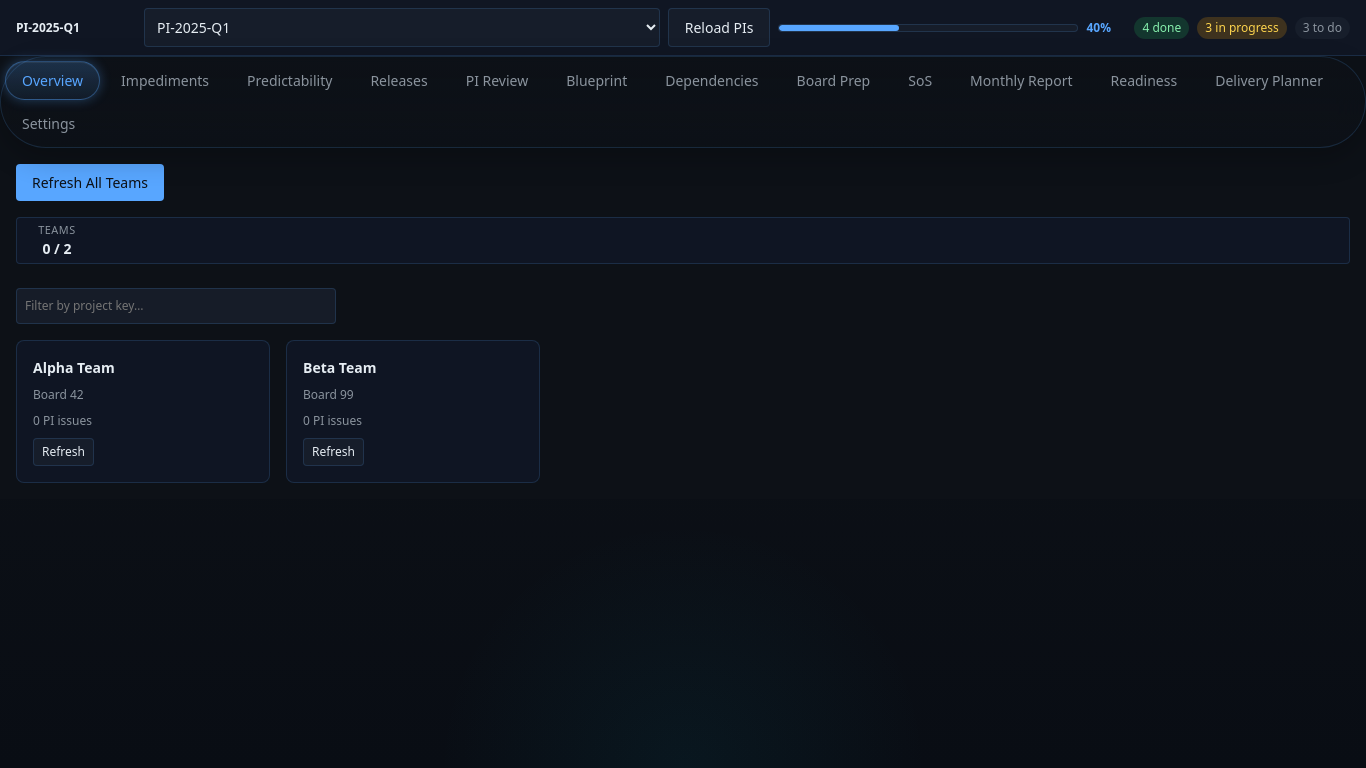
it: ArtView › filters overview team cards by project key text
Step 1. Type "beta" into the search field with placeholder "Filter by project key…" → (176, 306), box [16,288,336,324]
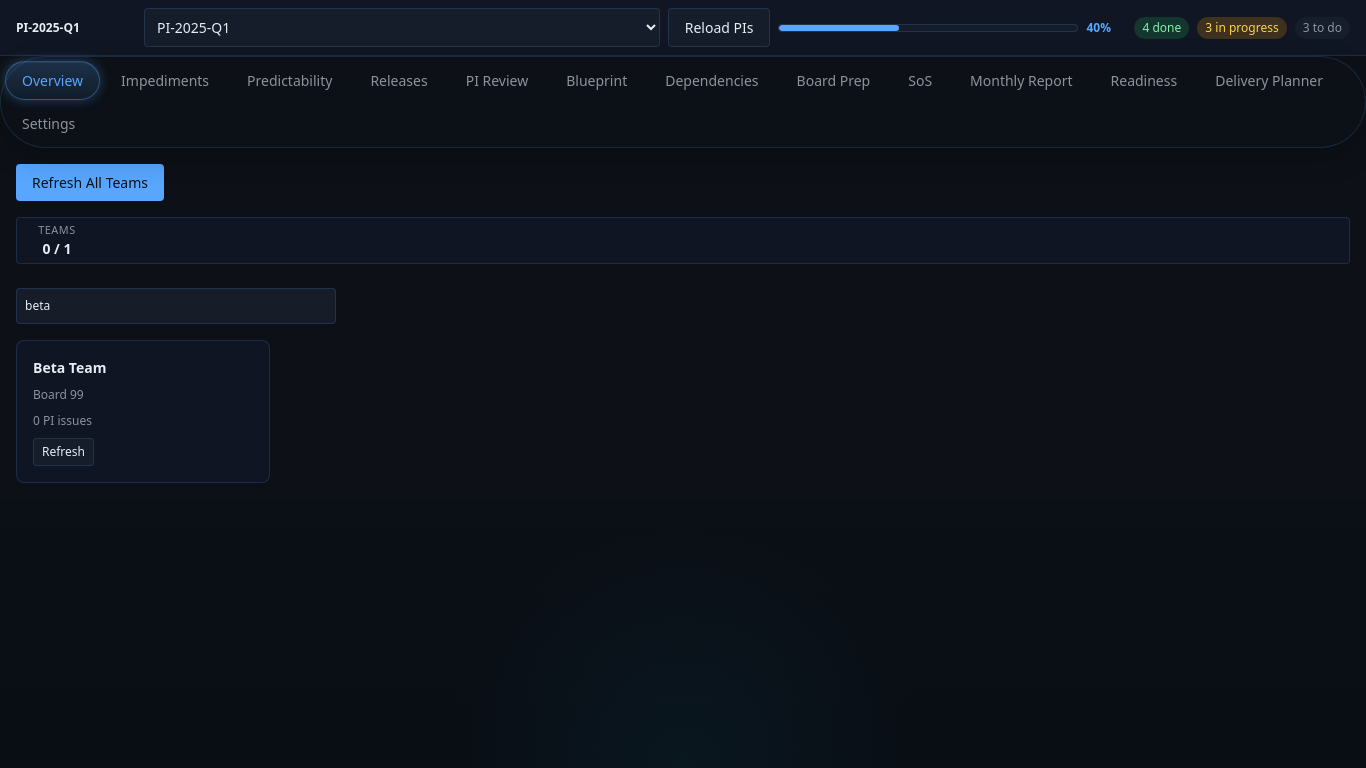
expect the text "Beta Team" is shown: met, box [33,357,106,378]
expect the text "Alpha Team" is gone: met
